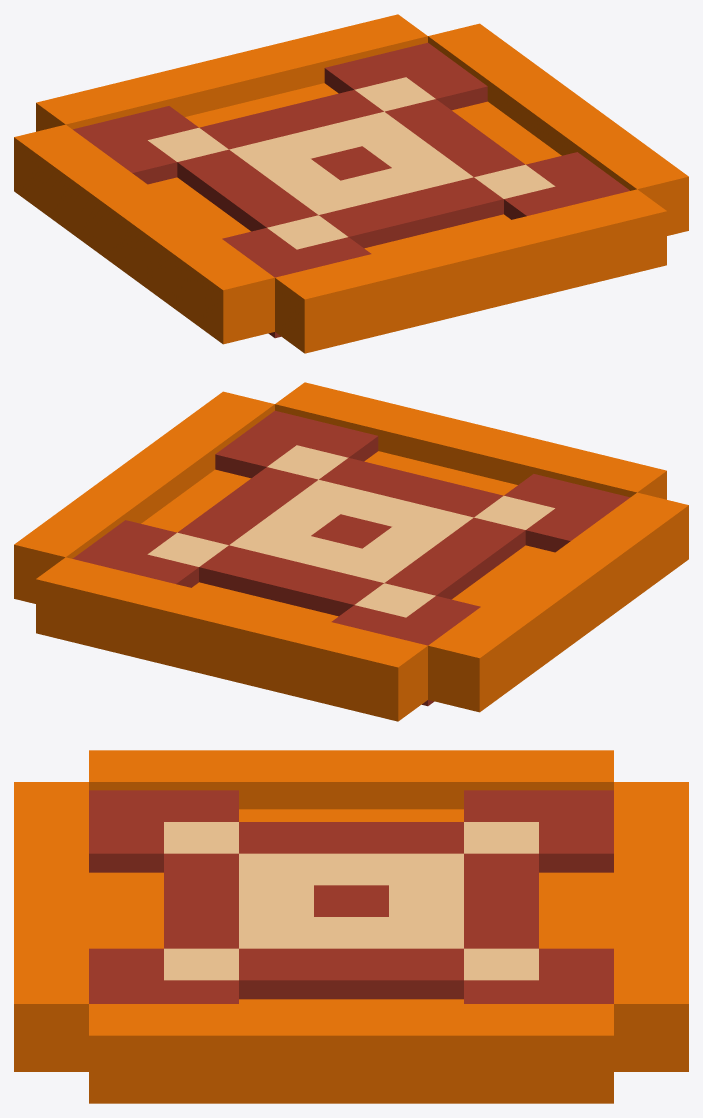
The model's file is OrangeBlock_Block.fbx.
3 renders of one model, top to bottom at view 1: azimuth 30°, elevation 25°; view 2: azimuth 150°, elevation 25°; view 3: azimuth 270°, elevation 25°, orthographic. The views are drawn at different scales.
Visible parts, largest first — view 1: Cube.042, Cube.049, Cube.187; view 2: Cube.042, Cube.049, Cube.187; view 3: Cube.042, Cube.049, Cube.187.
Part boxes in pixels (x1,y1,x2,y2): Cube.042: [14, 14, 688, 353]; Cube.049: [73, 42, 629, 338]; Cube.187: [148, 77, 555, 249]; Cube.042: [14, 382, 688, 721]; Cube.049: [73, 410, 629, 706]; Cube.187: [147, 445, 554, 617]; Cube.042: [14, 750, 688, 1103]; Cube.049: [89, 790, 613, 1003]; Cube.187: [164, 822, 538, 980].
Size of the model in its own units: 9 by 1.4 by 9.
